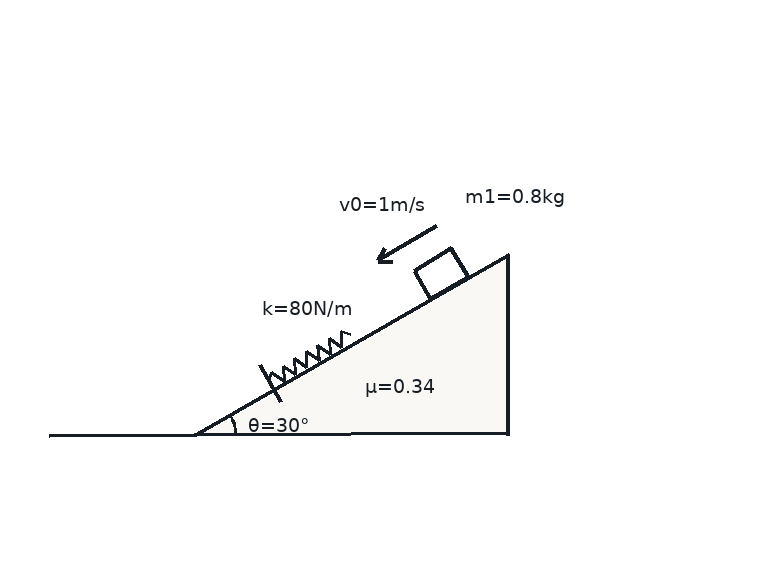block: (412, 246, 470, 300)
ramp: (193, 252, 509, 436)
spring: (266, 330, 352, 383)
